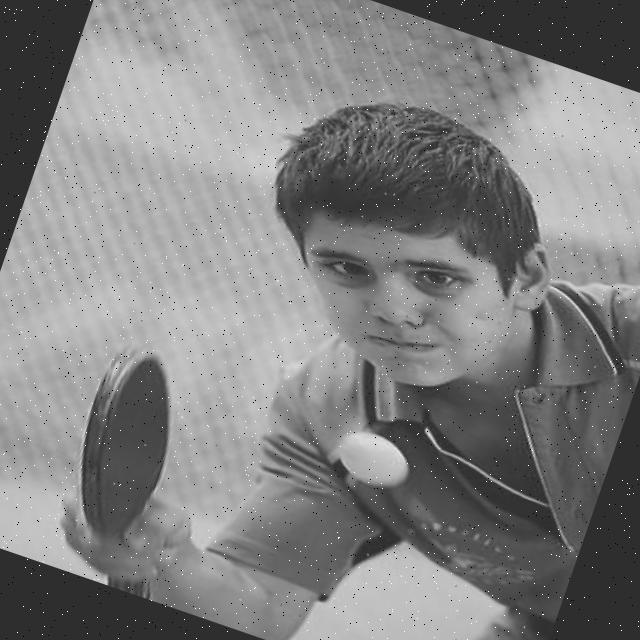ping-pong-ball: (327, 421, 418, 494)
